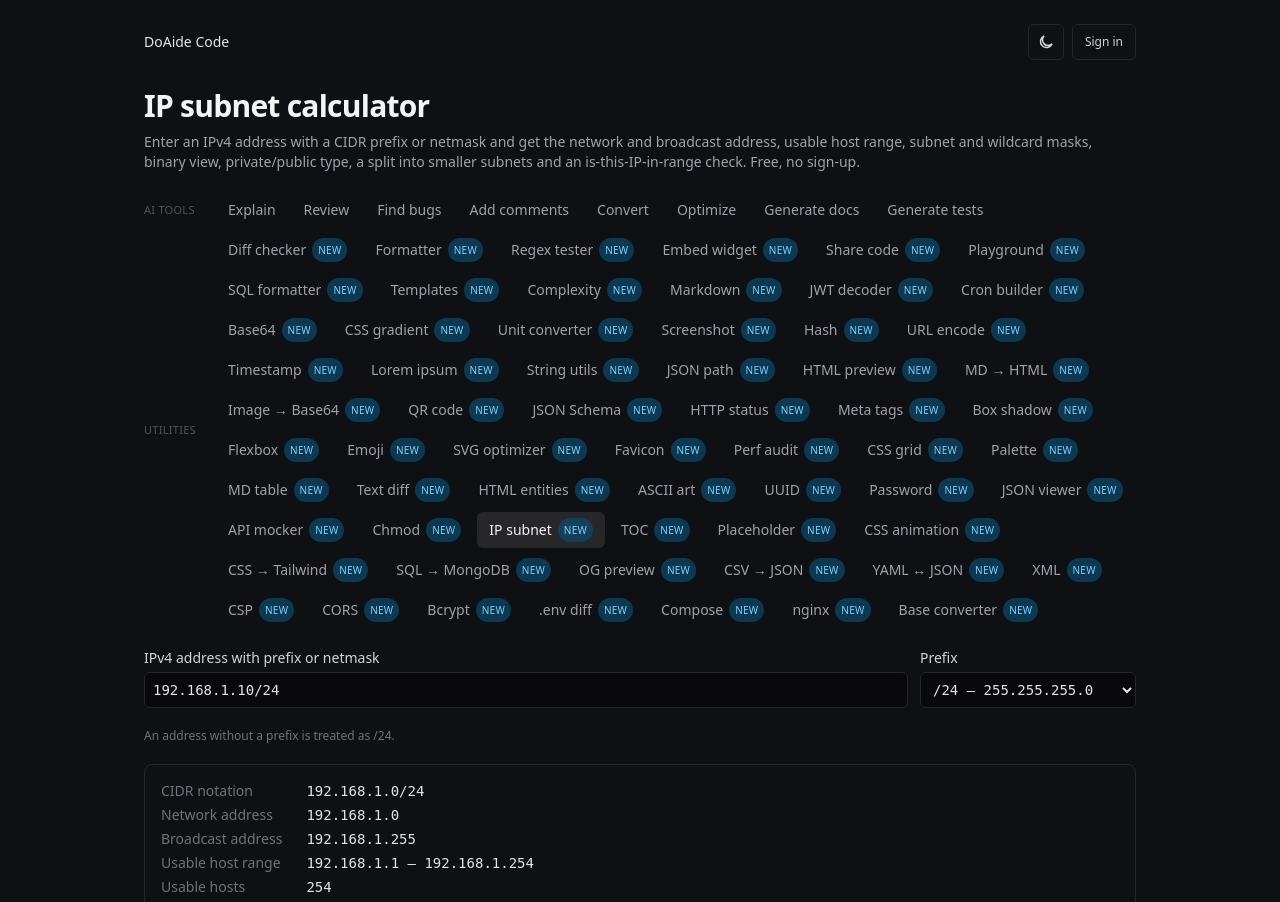
Test: IpCalcPage › follows a netmask, the prefix picker and the membership check
Replace the text in the field with test id "ip-input" with "10.20.30.40 255.255.252.0" at (526, 690), box top-left (144, 672), bottom-right (908, 708)
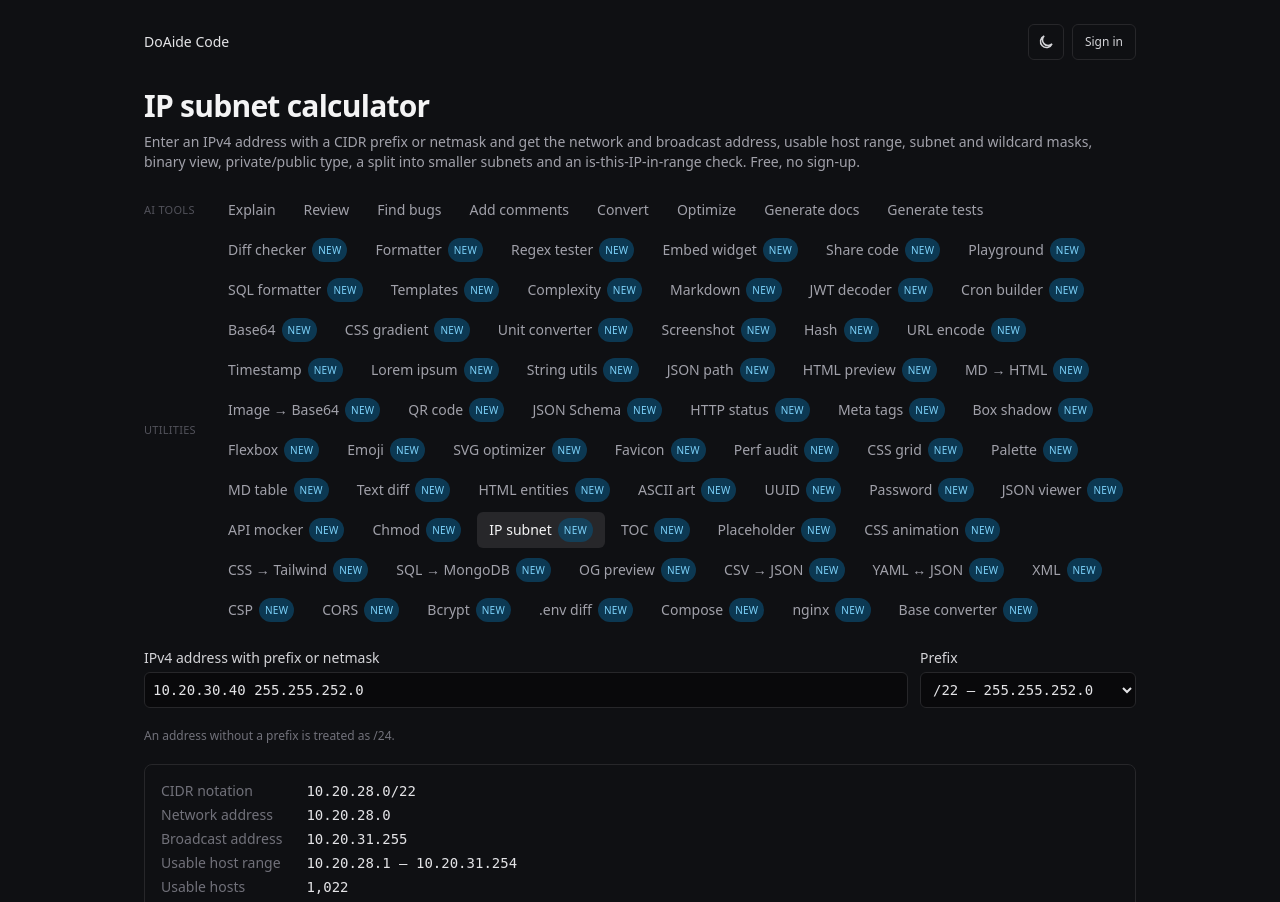
Now the text with test id "ip-cidr-notation" reads "10.20.28.0/22", box top-left (306, 783), bottom-right (416, 799)
Select "/30 — 255.255.255.252" in the dropdown with test id "ip-prefix" at (1028, 690), box top-left (920, 672), bottom-right (1136, 708)
(page scrolled)
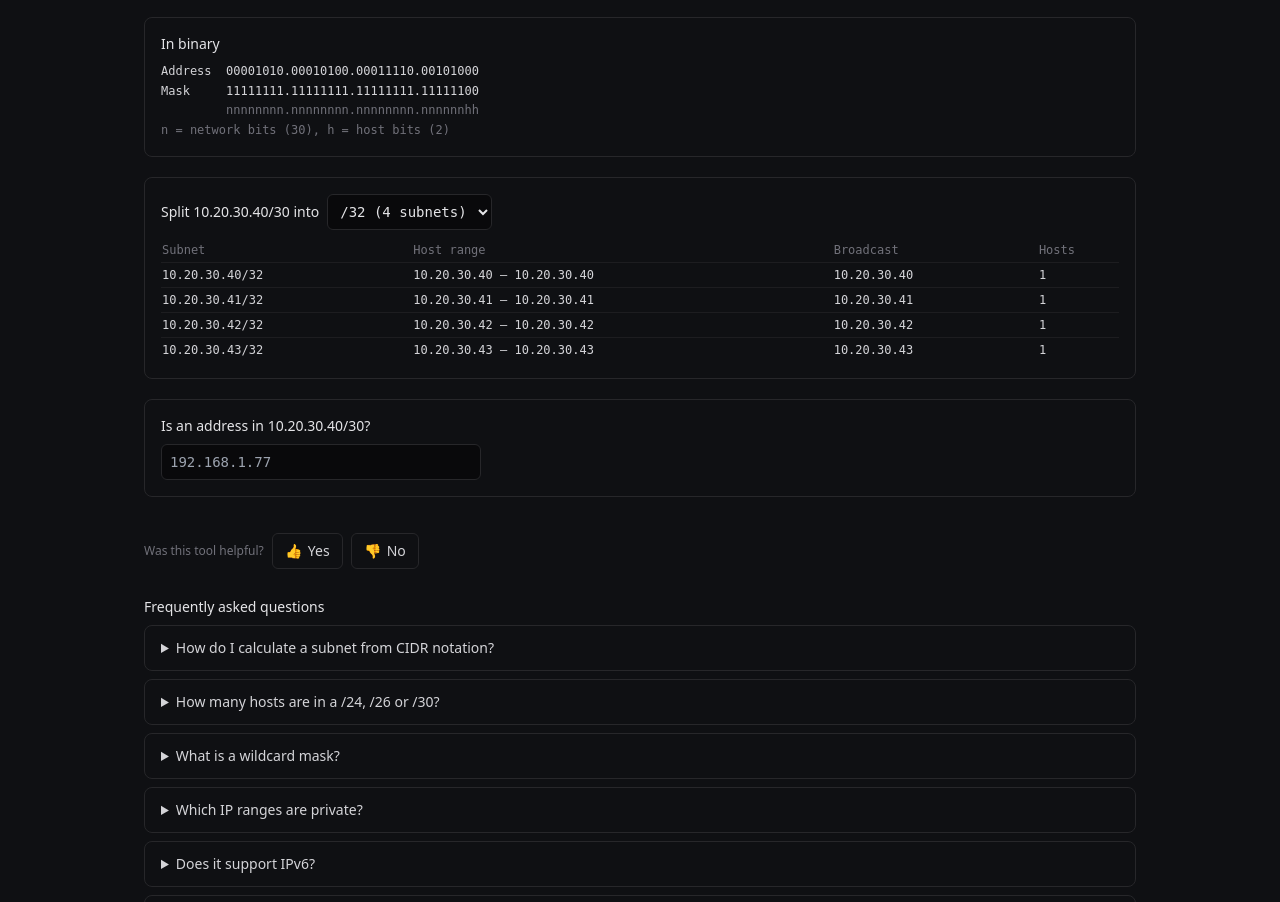
Type "10.20.30.43" into the field with test id "ip-probe" at (321, 462), box top-left (161, 444), bottom-right (481, 480)
(page scrolled)
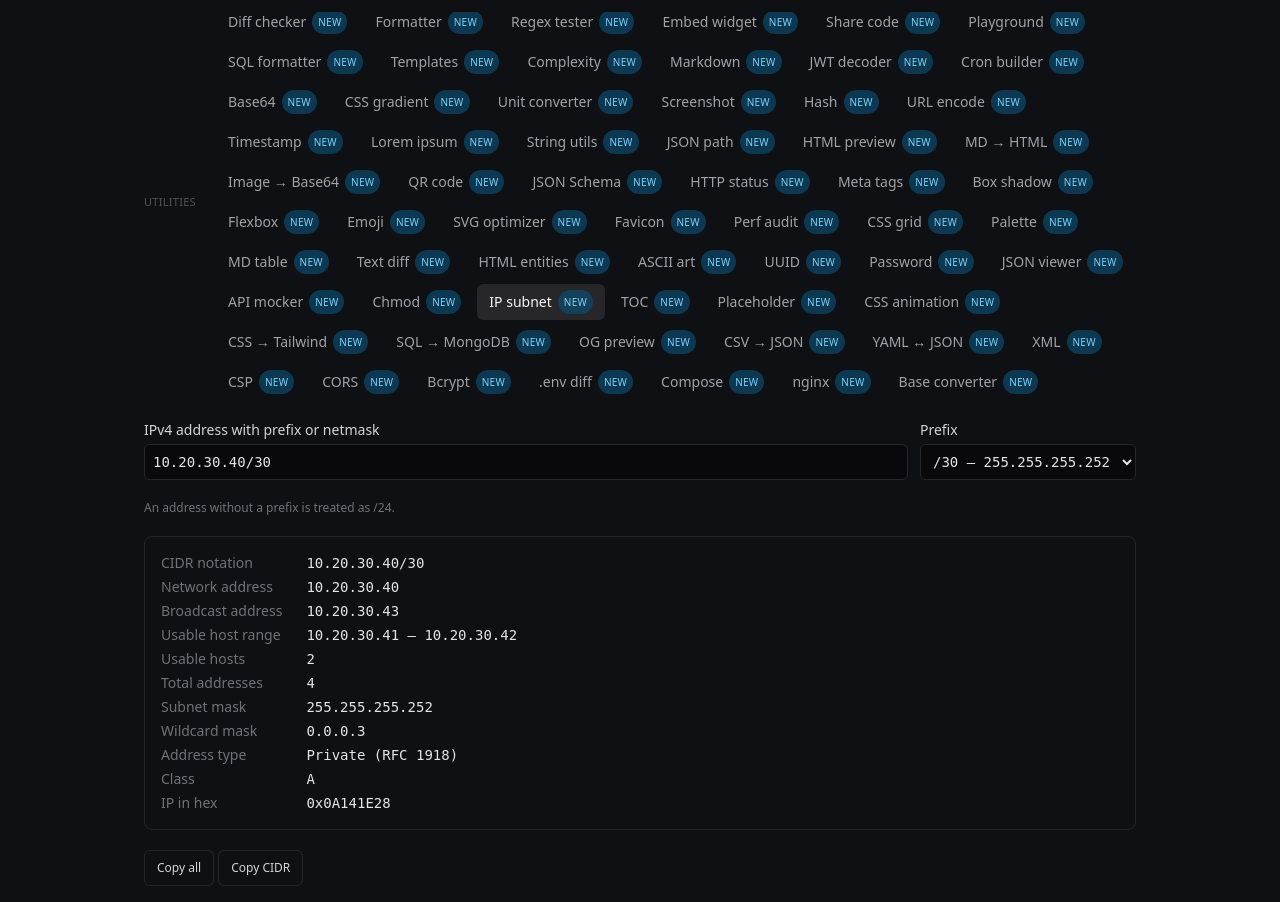
Replace the text in the field with test id "ip-input" with "300.1.1.1/8" at (526, 462), box top-left (144, 444), bottom-right (908, 480)
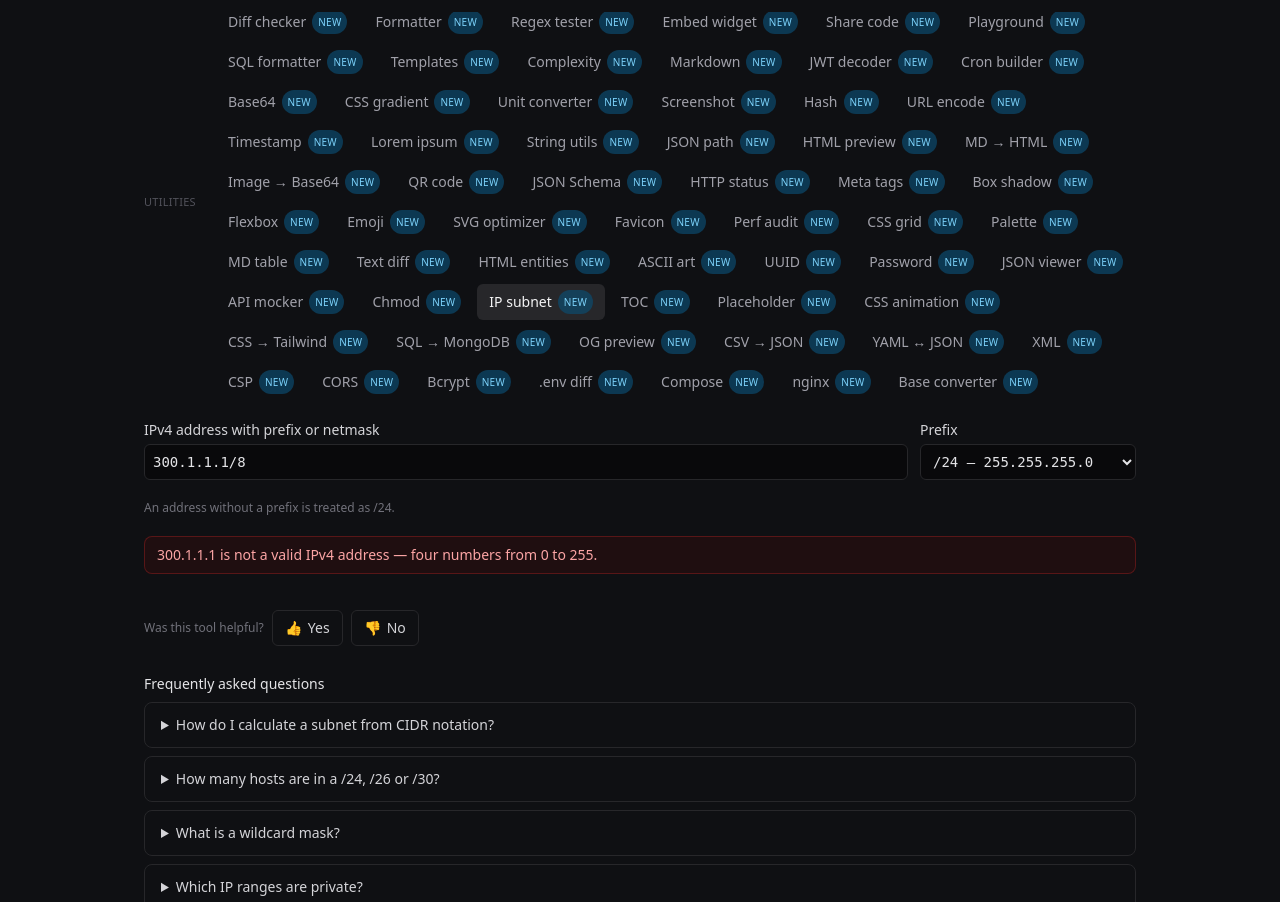
Now the message shows "not a valid IPv4", box top-left (157, 545), bottom-right (597, 564)
